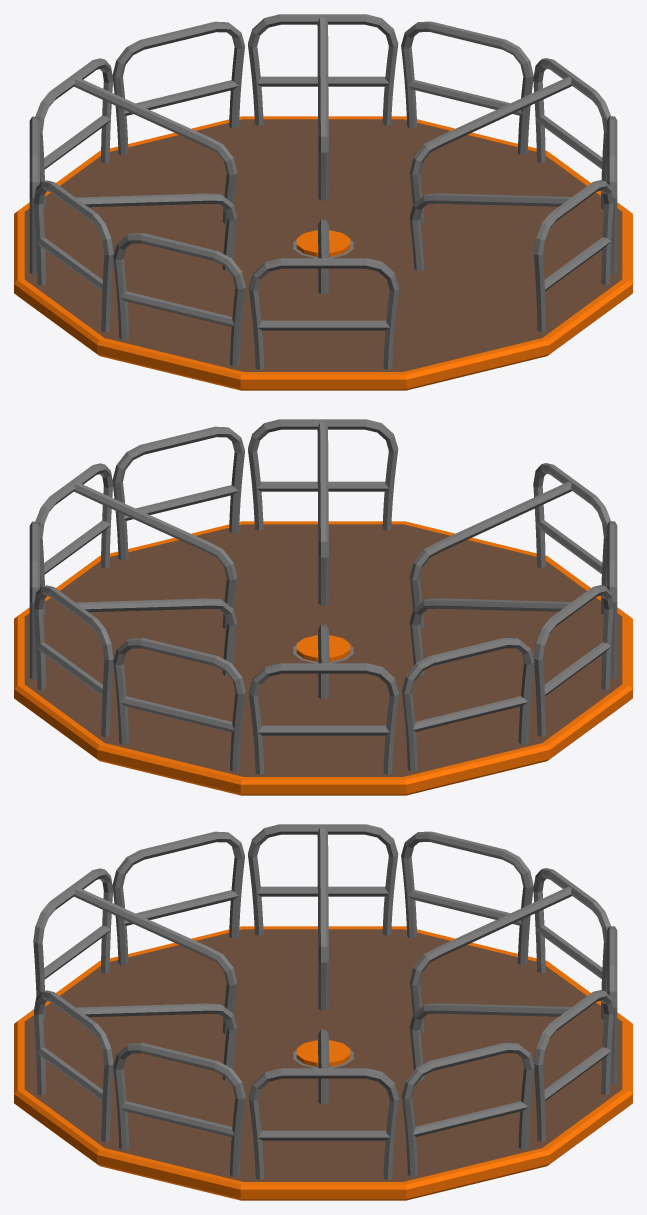
Rendered from SM_SpinningGame.fbx.
3 views of the same model, one above another, from view 1: azimuth 30°, elevation 25°; view 2: azimuth 150°, elevation 25°; view 3: azimuth 270°, elevation 25° (orthographic).
Parts seen in each view (by area): view 1: Cylinder; view 2: Cylinder; view 3: Cylinder.
Boxes of the visible parts, box(x1,y1,x2,y2) form: Cylinder: box(14, 14, 632, 390); Cylinder: box(14, 419, 632, 795); Cylinder: box(14, 824, 632, 1200).
Bounding box in the file's own units: 458 × 107 × 458.
